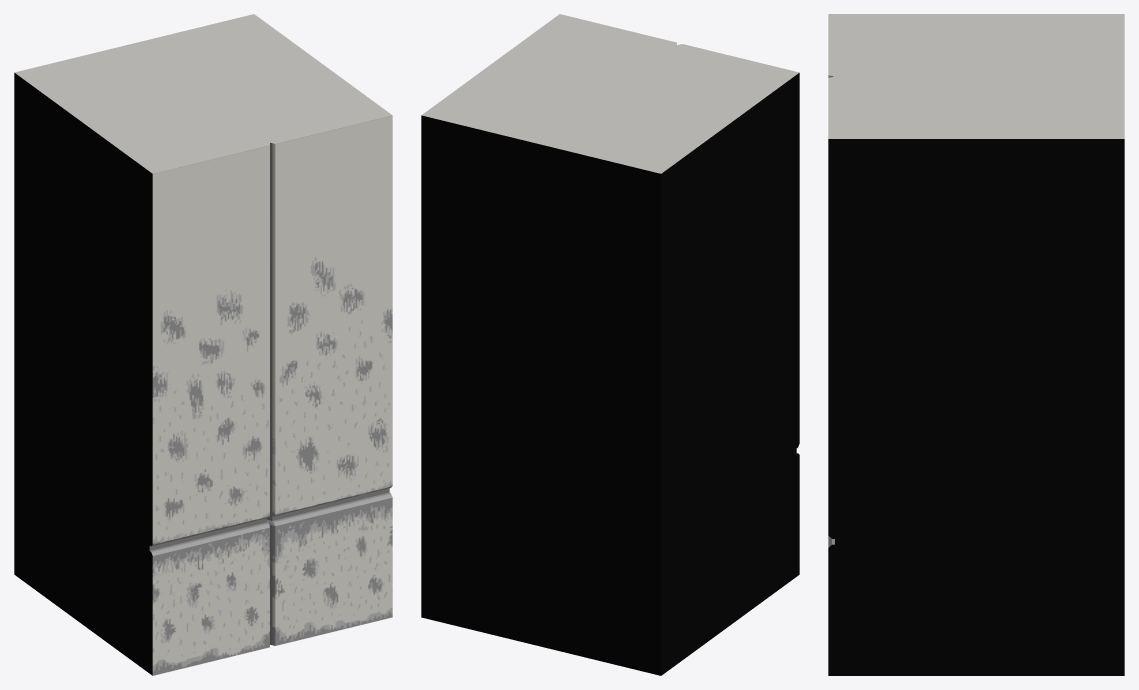
The picture shows the model from 3 angles, left to right: view 1: azimuth 30°, elevation 25°; view 2: azimuth 150°, elevation 25°; view 3: azimuth 270°, elevation 25°; orthographic projection. The views are drawn at different scales.
Parts seen in each view (by area): view 1: side.001; view 2: side.001; view 3: side.001.
Part boxes in pixels (x1,y1,x2,y2): side.001: (14,14,392,675); side.001: (421,14,799,675); side.001: (828,14,1124,675).
Bounding box in the file's own units: 1100 × 2200 × 1100.
